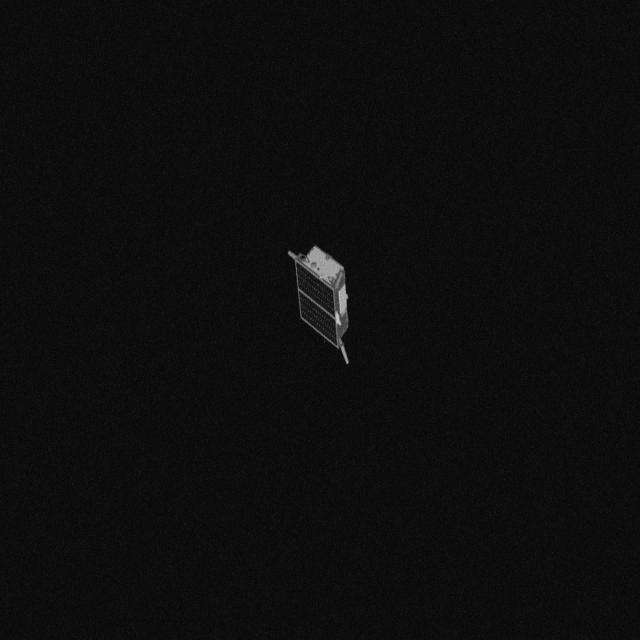satellite: (280, 234, 358, 376)
